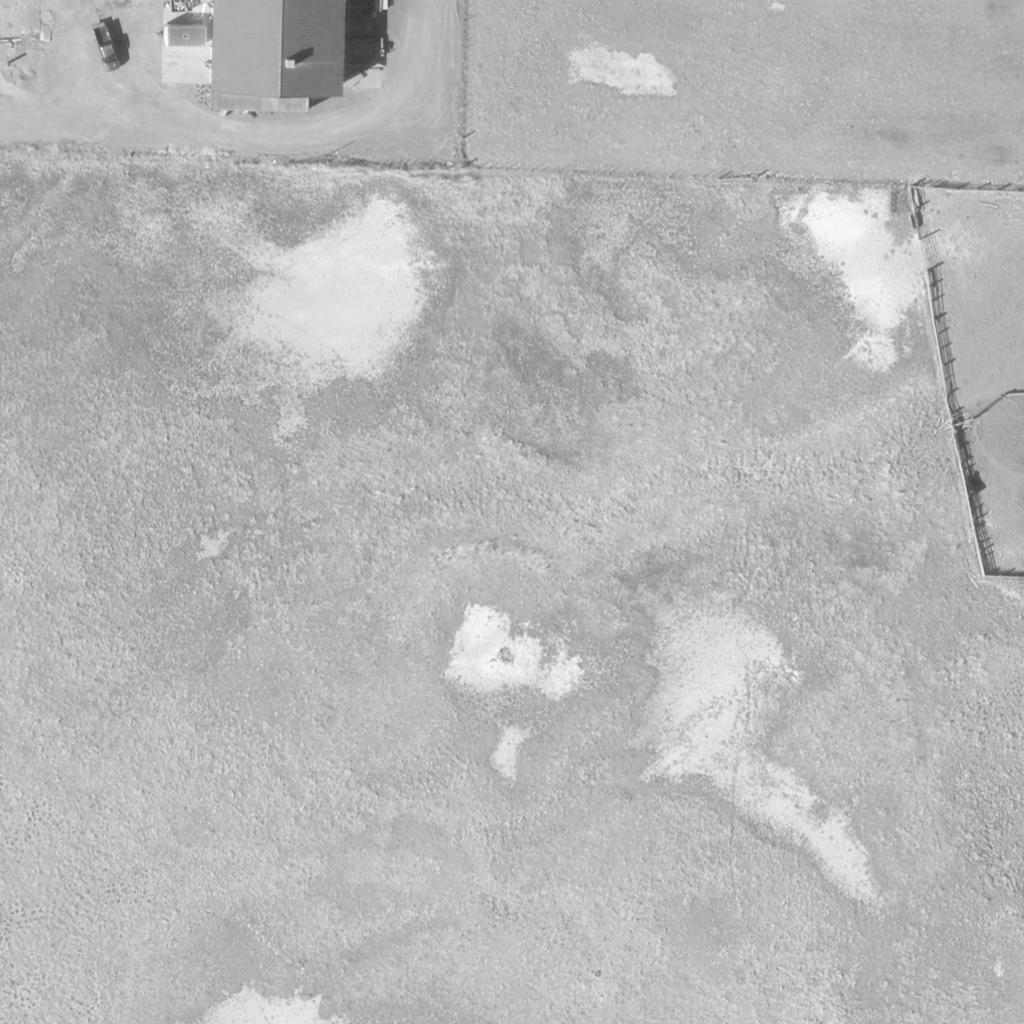vehicle: (91, 23, 123, 73), (154, 24, 210, 48)
